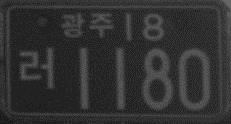0: (177, 47, 210, 110)
1: (112, 47, 128, 111), (76, 44, 91, 110), (123, 11, 134, 43)
8: (141, 47, 174, 111), (141, 11, 164, 42)
광주_O: (59, 10, 114, 40)
러: (18, 44, 56, 90)
